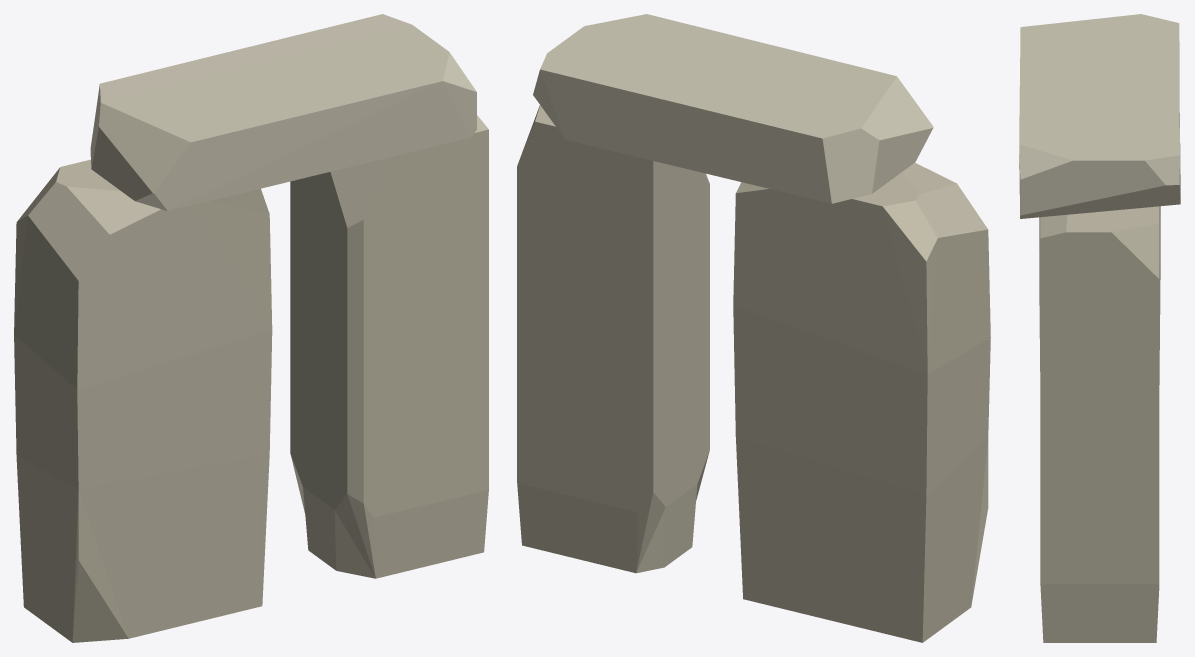
Rendered from Stonehenge_04.fbx.
3 views of the same model, side by side, from view 1: azimuth 30°, elevation 25°; view 2: azimuth 150°, elevation 25°; view 3: azimuth 270°, elevation 25° (orthographic). The views are drawn at different scales.
Visible parts, largest first — view 1: Stonehenge_04; view 2: Stonehenge_04; view 3: Stonehenge_04.
Part boxes in pixels (x1,y1,x2,y2): Stonehenge_04: (14, 14, 488, 642); Stonehenge_04: (517, 14, 990, 642); Stonehenge_04: (1019, 14, 1180, 642).
Bounding box in the file's own units: 402 × 459 × 142.
